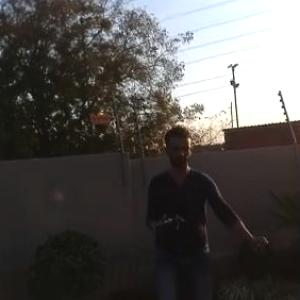follow: (136, 119, 272, 299)
